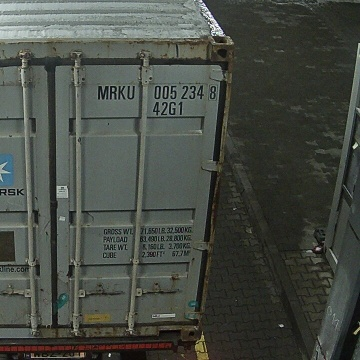serial_id: (98, 85, 216, 99)
